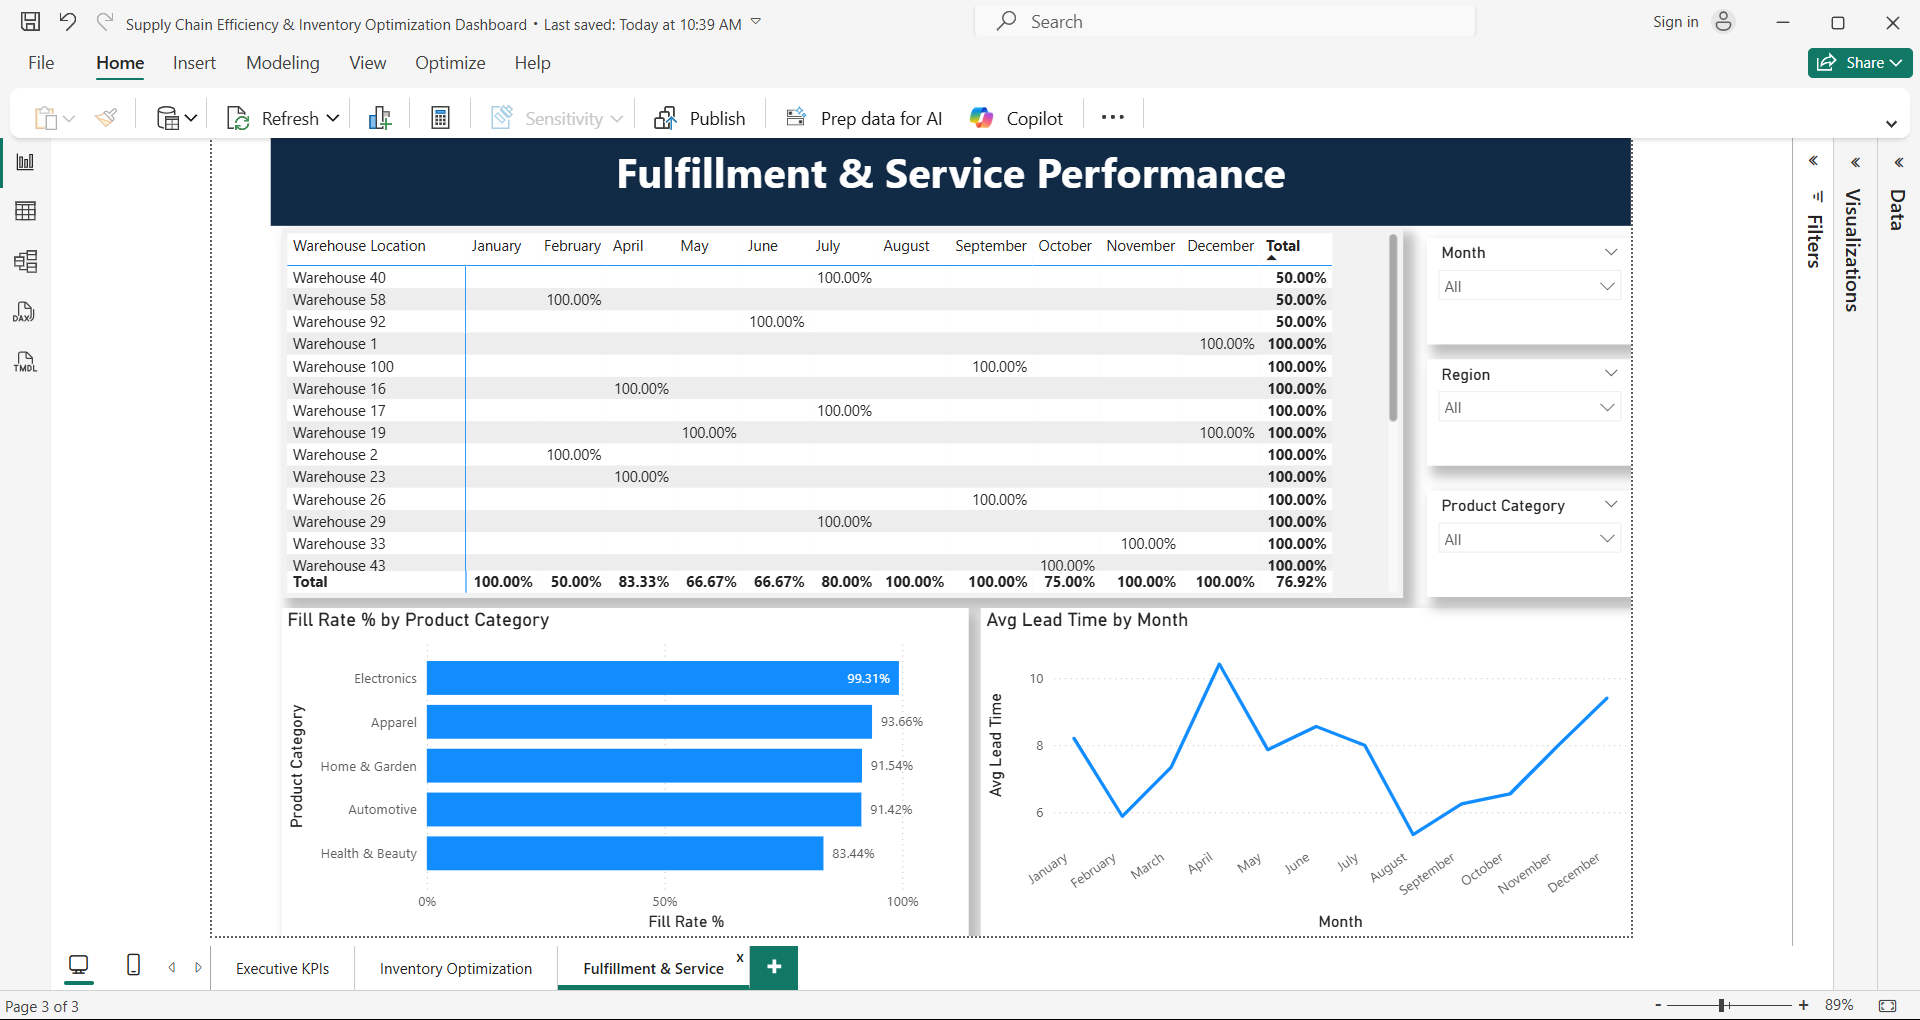

The page's visual inventory and layout, read from the dashboard file:
{"tool":"powerbi","page":{"name":"Fulfillment & Service","canvas":[1280,720],"ordinal":2},"visuals":[{"type":"pivotTable","fields":{"Rows":["Location_Table.Warehouse Location"],"Columns":["DateTable.Date.Variation.Date Hierarchy.Month"],"Values":["Inventory_Fact_Table.On-Time Delivery %"]},"box":[9.6,0,929,385.6],"z":0},{"type":"clusteredBarChart","fields":{"Category":["Product_Table.Product Category"],"Y":["Inventory_Fact_Table.Fill Rate %"]},"box":[9.6,413,598.3,307.4],"z":1000},{"type":"lineChart","fields":{"Category":["DateTable.Date.Variation.Date Hierarchy.Month"],"Y":["Inventory_Fact_Table.Avg Lead Time"]},"box":[655.9,413,533.8,307.4],"z":2000}]}

Visuals, with their boxes on the page's 1280x720 design canvas (x1, y1, x2, y2). These are canvas units, not pixel positions in the 1920x1020 screenshot, which may show the page scaled, cropped or inside an application window:
pivotTable - Location_Table.Warehouse Location x DateTable.Date.Variation.Date Hierarchy.Month: <bbox>10, 0, 939, 386</bbox>
clusteredBarChart - Product_Table.Product Category x Inventory_Fact_Table.Fill Rate %: <bbox>10, 413, 608, 720</bbox>
lineChart - DateTable.Date.Variation.Date Hierarchy.Month x Inventory_Fact_Table.Avg Lead Time: <bbox>656, 413, 1190, 720</bbox>
